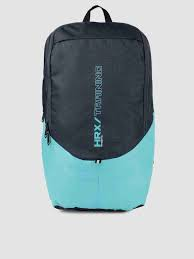backpack: (40, 4, 155, 211)
